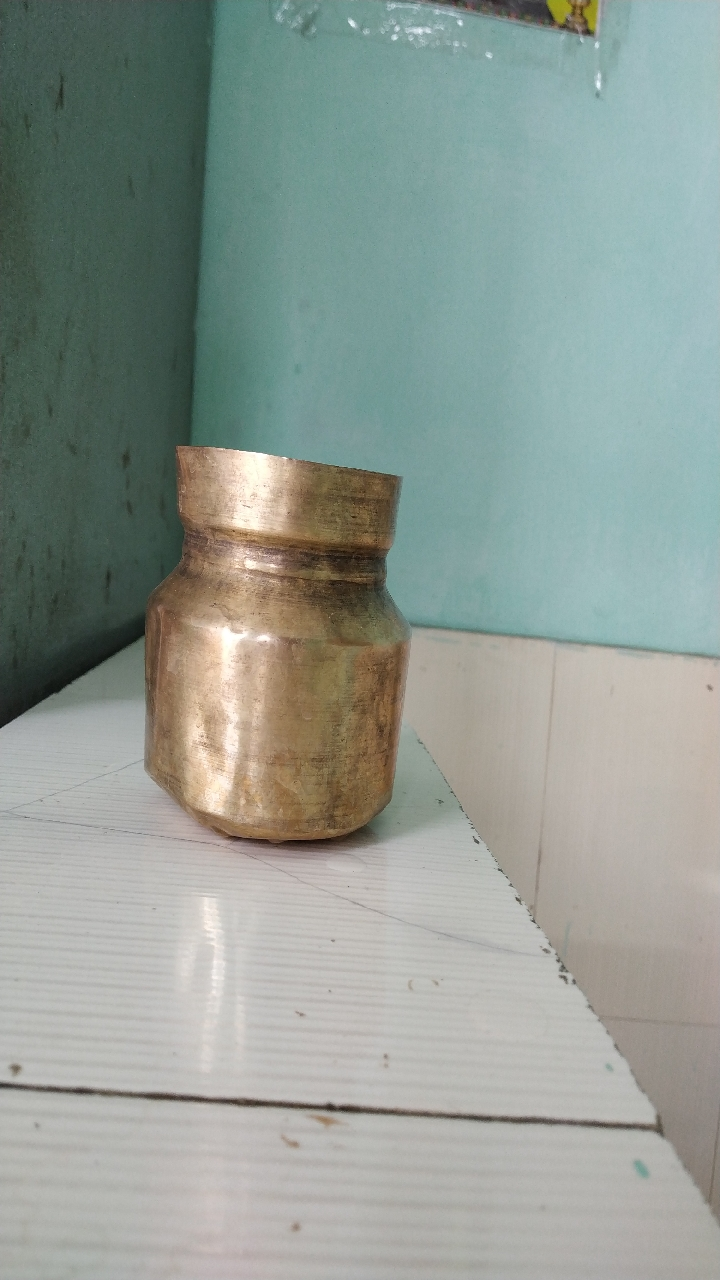garments: (145, 423, 428, 841)
